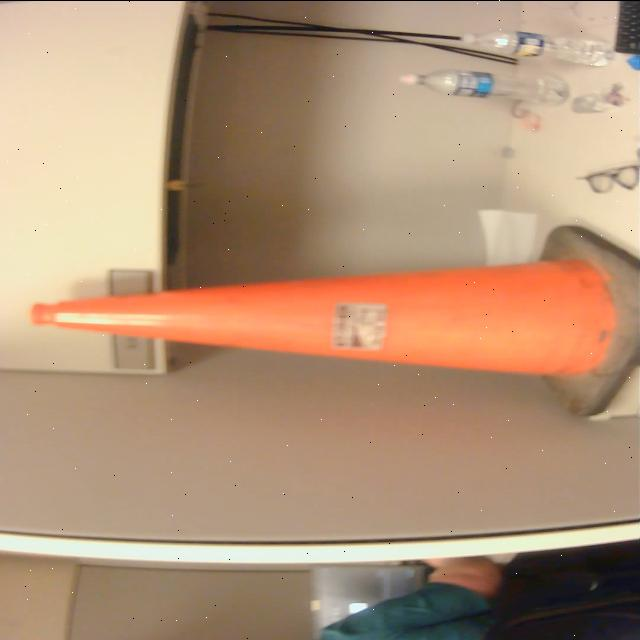traffic cone: (21, 223, 640, 422)
